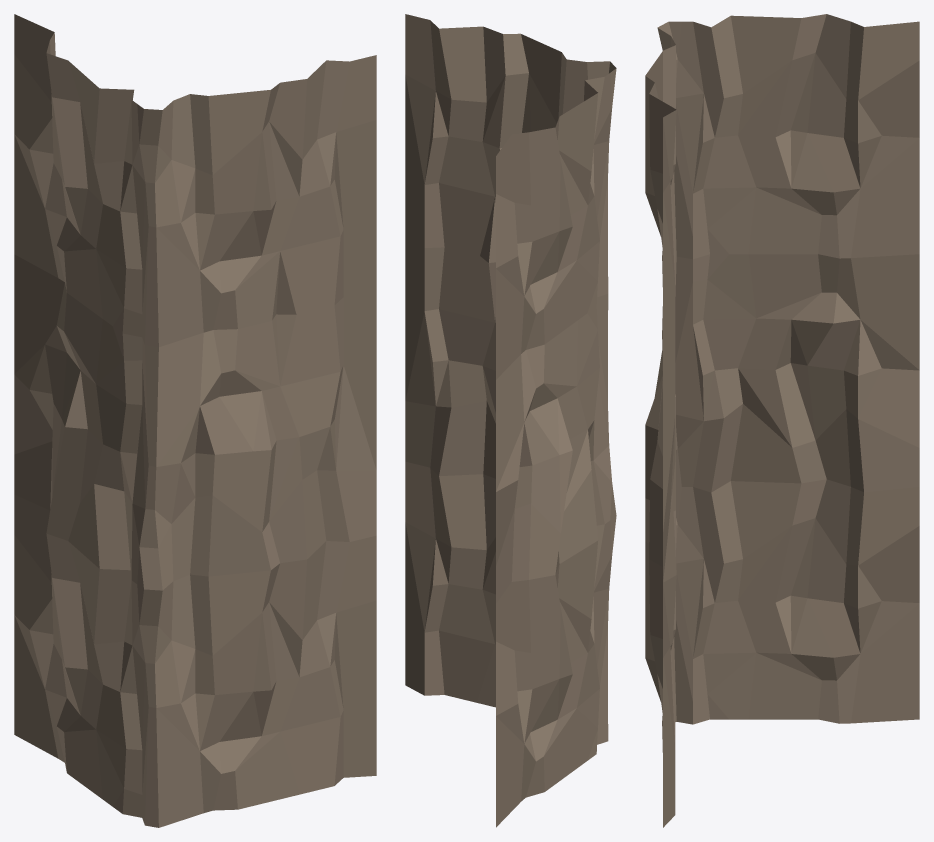
The model's file is ER_Terrain_3x1_Dirt_Corner_001_A.fbx.
3 views of the same model, side by side, from view 1: azimuth 30°, elevation 25°; view 2: azimuth 150°, elevation 25°; view 3: azimuth 270°, elevation 25° (orthographic). The views are drawn at different scales.
Visible parts, largest first — view 1: ER_Terrain_3x1_Dirt_Corner_001_A; view 2: ER_Terrain_3x1_Dirt_Corner_001_A; view 3: ER_Terrain_3x1_Dirt_Corner_001_A.
Part boxes in pixels (x1,y1,x2,y2): ER_Terrain_3x1_Dirt_Corner_001_A: (14,14,376,827); ER_Terrain_3x1_Dirt_Corner_001_A: (405,14,616,827); ER_Terrain_3x1_Dirt_Corner_001_A: (645,14,919,827).
Bounding box in the file's own units: 1.07 × 3 × 1.07.
